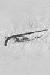T30: (5, 1, 45, 75)
